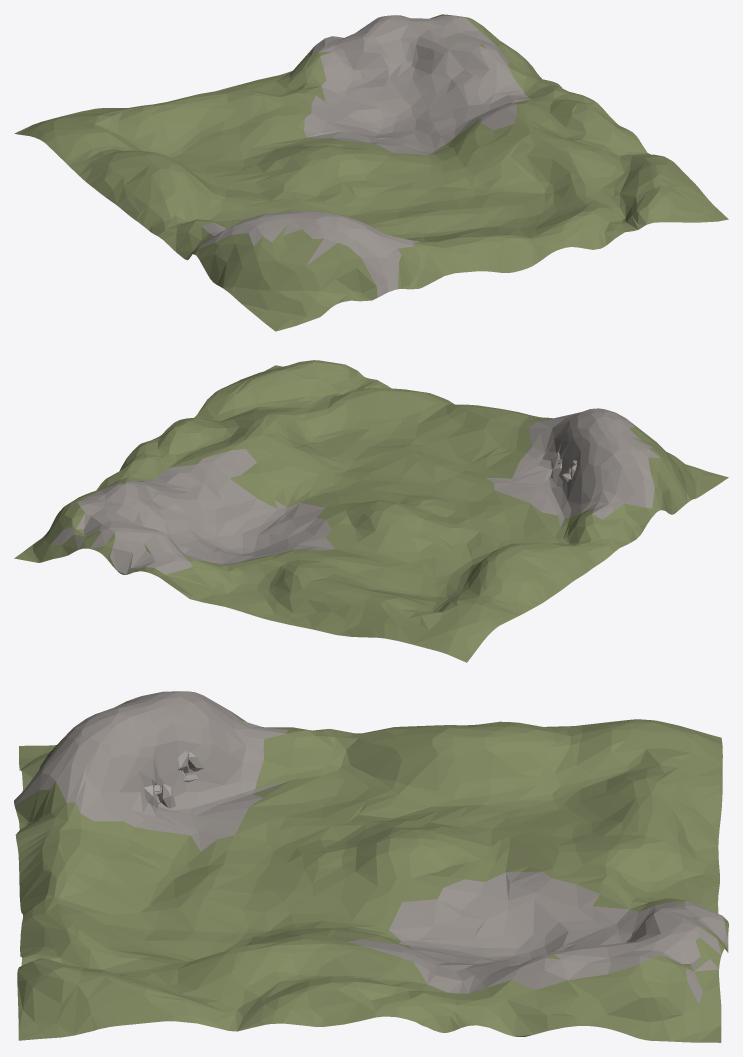
File: terrain.fbx
3 views of the same model, one above another, from view 1: azimuth 30°, elevation 25°; view 2: azimuth 150°, elevation 25°; view 3: azimuth 270°, elevation 25° (orthographic). The views are drawn at different scales.
Parts seen in each view (by area): view 1: pPlatonic11; view 2: pPlatonic11; view 3: pPlatonic11.
Part boxes in pixels (box(x1,y1,x2,y2)): pPlatonic11: box(14, 14, 728, 331); pPlatonic11: box(14, 360, 728, 662); pPlatonic11: box(14, 691, 728, 1042).
Bounding box in the file's own units: 746 × 118 × 746.
